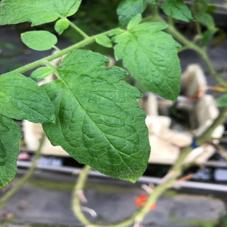Healthy: (41, 48, 151, 182), (113, 16, 184, 102), (0, 71, 56, 124), (20, 30, 57, 52)
